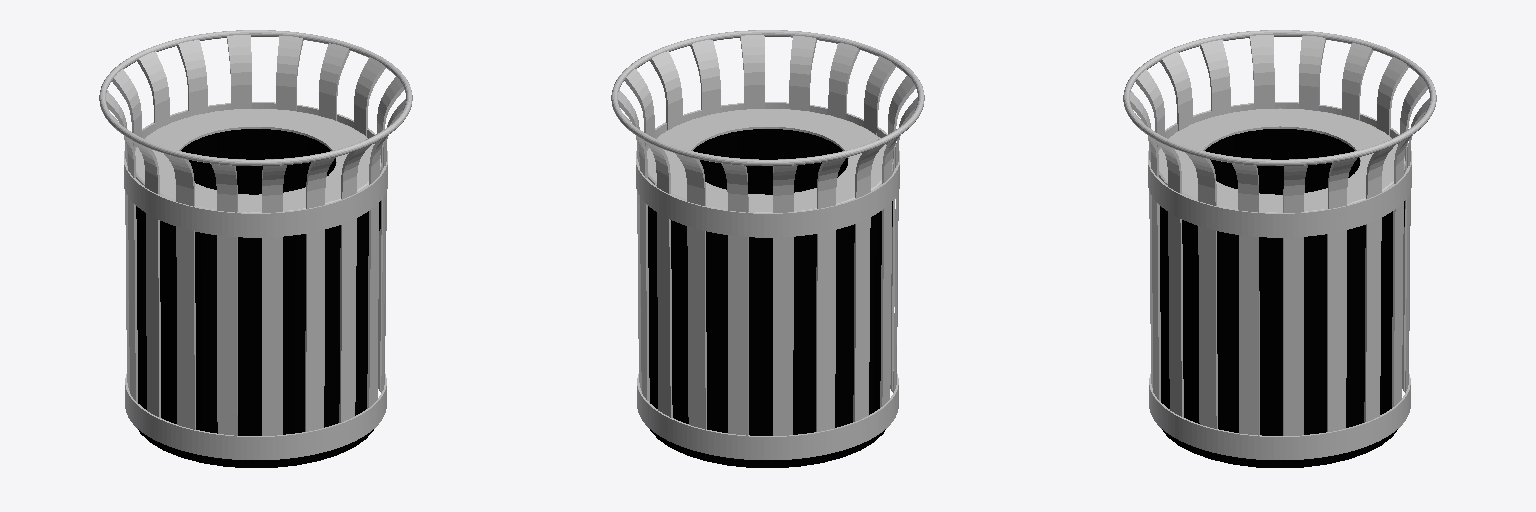
File: Trashcan.obj
The picture shows the model from 3 angles: view 1: azimuth 30°, elevation 25°; view 2: azimuth 150°, elevation 25°; view 3: azimuth 270°, elevation 25°; orthographic projection.
Visible parts, largest first — view 1: Trashcan_Exterior_Circle.022, Inside_Can_Circle.004; view 2: Trashcan_Exterior_Circle.022, Inside_Can_Circle.004; view 3: Trashcan_Exterior_Circle.022, Inside_Can_Circle.004.
Part boxes in pixels (bbox=[...]): Trashcan_Exterior_Circle.022: bbox=[99, 30, 412, 459]; Inside_Can_Circle.004: bbox=[136, 129, 380, 467]; Trashcan_Exterior_Circle.022: bbox=[611, 30, 924, 459]; Inside_Can_Circle.004: bbox=[648, 129, 892, 467]; Trashcan_Exterior_Circle.022: bbox=[1123, 30, 1436, 459]; Inside_Can_Circle.004: bbox=[1160, 129, 1404, 467].
Size of the model in its own units: 1.35 by 1.53 by 1.35.